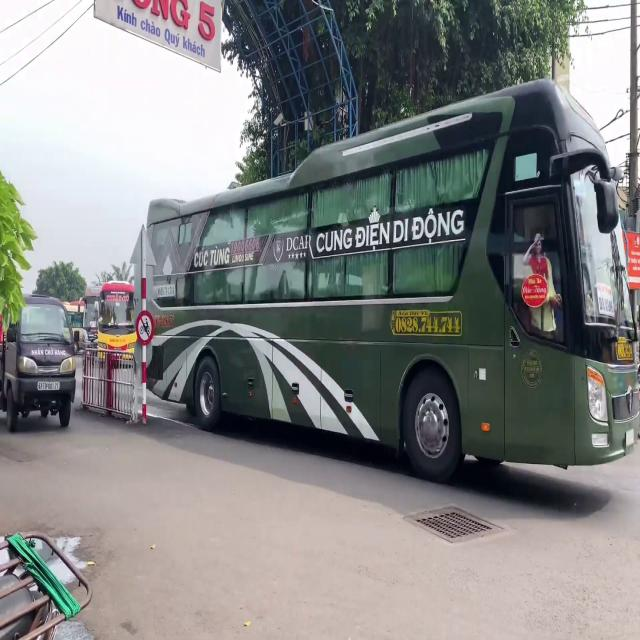bien_trang: (37, 380, 60, 392)
